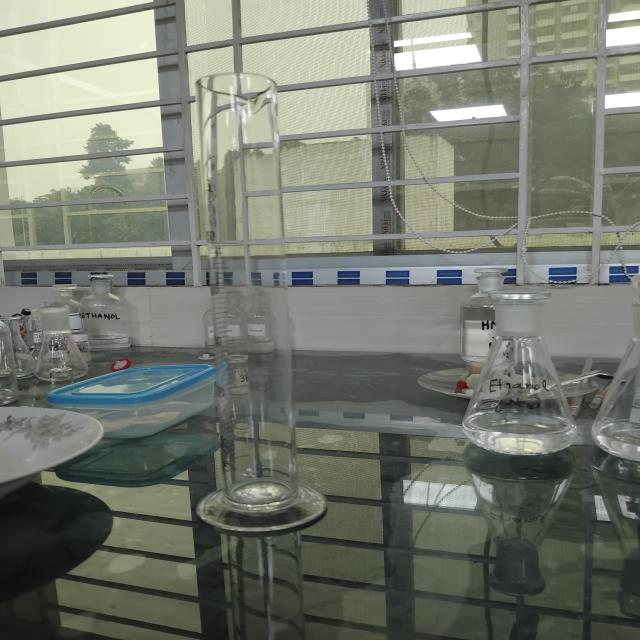Conical_Flask: (442, 258, 595, 491)
Measuring_Cylinder: (167, 50, 370, 560)
